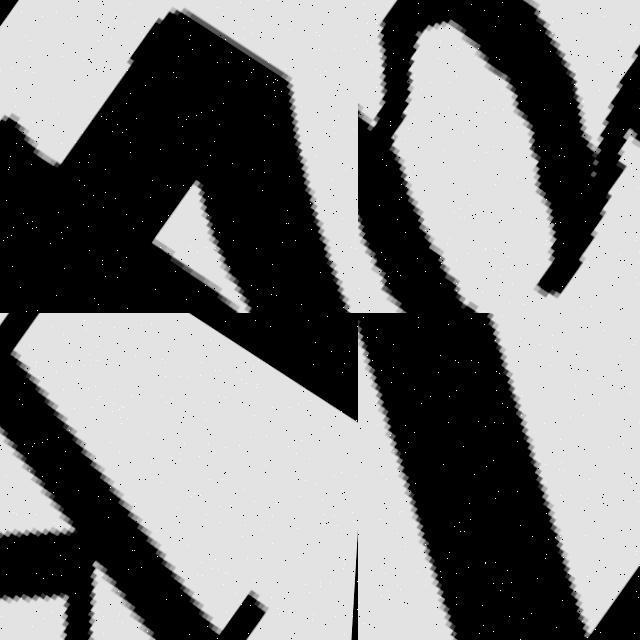K: (0, 313, 358, 640)
U: (358, 0, 640, 313)
Z: (358, 313, 640, 640)
